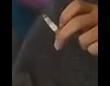Cigarette: (43, 14, 59, 32)
